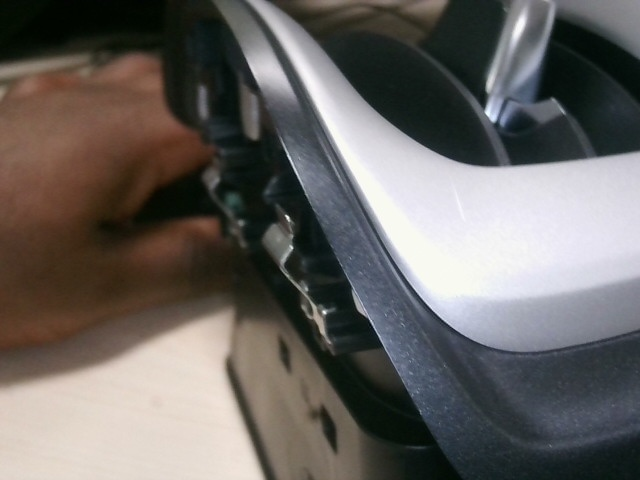NG: (288, 143, 330, 203), (448, 180, 478, 231)
